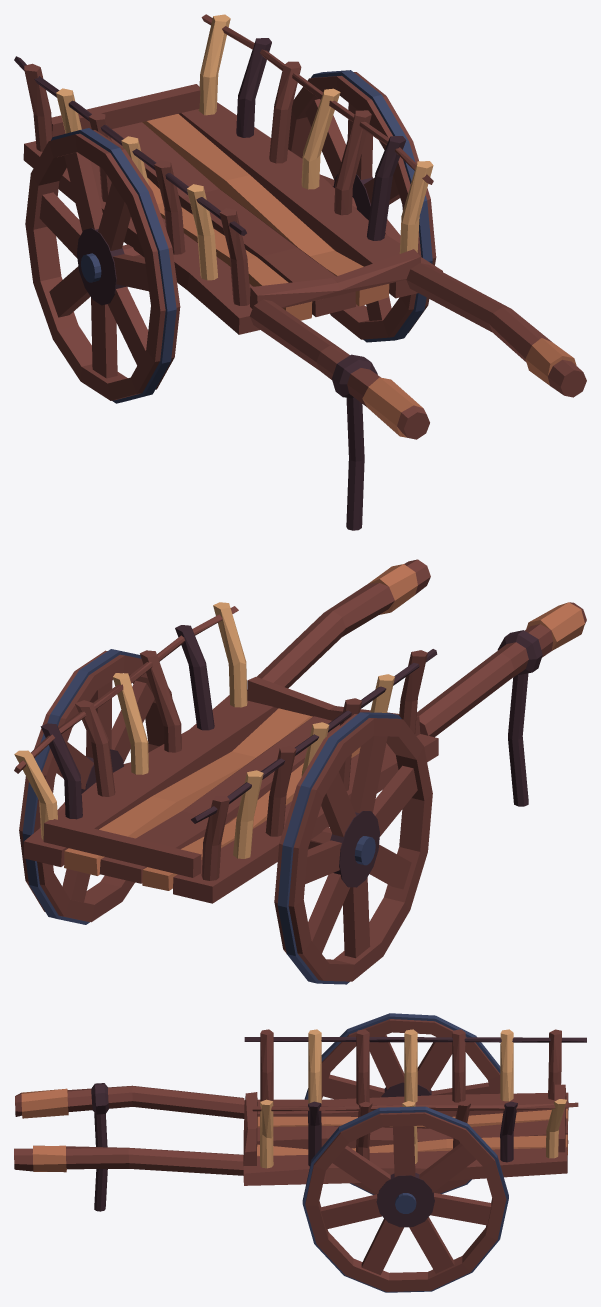
Rendered from WheelCart_02.fbx.
3 renders of one model, top to bottom at view 1: azimuth 30°, elevation 25°; view 2: azimuth 150°, elevation 25°; view 3: azimuth 270°, elevation 25°, orthographic. The views are drawn at different scales.
Visible parts, largest first — view 1: WheelCart_02, Wheel_03, Wheel_04, WheelCart_02_Stander; view 2: WheelCart_02, Wheel_03, Wheel_04, WheelCart_02_Stander; view 3: WheelCart_02, Wheel_04, Wheel_03, WheelCart_02_Stander.
Boxes of the visible parts, bbox=[...] form: WheelCart_02: bbox=[14, 14, 586, 439]; Wheel_03: bbox=[25, 128, 180, 403]; Wheel_04: bbox=[288, 70, 436, 342]; WheelCart_02_Stander: bbox=[332, 354, 377, 530]; WheelCart_02: bbox=[14, 559, 586, 903]; Wheel_03: bbox=[274, 712, 432, 984]; Wheel_04: bbox=[19, 649, 172, 924]; WheelCart_02_Stander: bbox=[497, 630, 542, 806]; WheelCart_02: bbox=[14, 1029, 586, 1185]; Wheel_04: bbox=[302, 1106, 508, 1292]; Wheel_03: bbox=[304, 1013, 500, 1194]; WheelCart_02_Stander: bbox=[91, 1083, 108, 1211].
Size of the model in its own units: 173 by 147 by 410.
